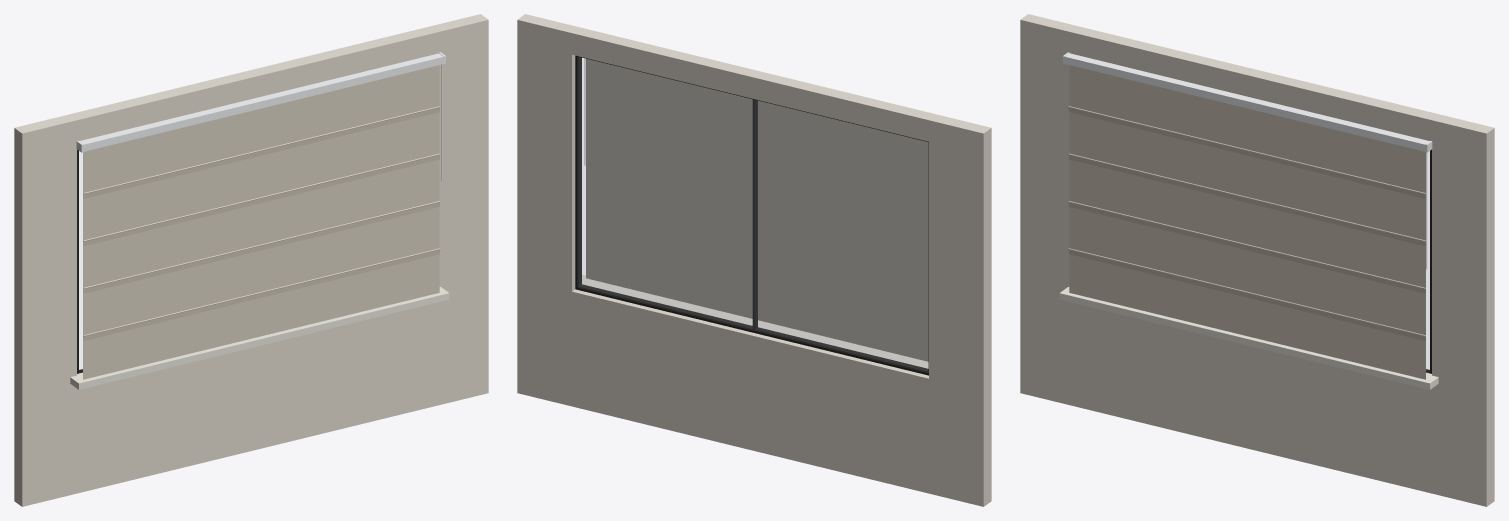
The model's file is curtain-roman.glb.
3 renders of one model, left to right at view 1: azimuth 30°, elevation 25°; view 2: azimuth 150°, elevation 25°; view 3: azimuth 330°, elevation 25°, orthographic.
Parts seen in each view (by area): view 1: RomanLowerWall, RomanFace_2, RomanFace_1, RomanFace_3, RomanLeftEdgeWall, RomanFace_0, RomanHeaderWall, RomanFace_4, RomanRightEdgeWall, RomanHeadrail, WindowSill_Roman, RomanFlap_0 (+9 smaller); view 2: WindowGlass_Roman, RomanLowerWall, RomanFace_3, RomanFace_1, RomanFace_2, RomanFace_4, RomanLeftEdgeWall, RomanHeaderWall, RomanRightEdgeWall, RomanFace_0, CurtainRomanShade, WindowSill_Roman; view 3: RomanLowerWall, RomanFace_2, RomanFace_1, RomanFace_3, RomanRightEdgeWall, RomanFace_0, RomanHeaderWall, RomanFace_4, RomanLeftEdgeWall, RomanHeadrail, WindowSill_Roman, RomanFlap_0 (+9 smaller).
Part boxes in pixels (x1,y1,x2,y2): RomanLowerWall: [14, 278, 488, 506]; RomanFace_2: [83, 159, 439, 287]; RomanFace_1: [83, 112, 439, 240]; RomanFace_3: [83, 207, 439, 335]; RomanLeftEdgeWall: [14, 142, 76, 391]; RomanFace_0: [83, 65, 439, 192]; RomanHeaderWall: [14, 14, 488, 154]; RomanFace_4: [83, 254, 439, 379]; RomanRightEdgeWall: [439, 41, 488, 288]; RomanHeadrail: [79, 53, 443, 151]; WindowSill_Roman: [70, 287, 449, 389]; RomanFlap_0: [83, 107, 440, 198]; WindowGlass_Roman: [578, 57, 927, 372]; RomanLowerWall: [517, 278, 991, 506]; RomanFace_3: [586, 187, 928, 317]; RomanFace_1: [586, 92, 928, 222]; RomanFace_2: [586, 139, 928, 270]; RomanFace_4: [586, 234, 928, 361]; RomanLeftEdgeWall: [929, 142, 991, 391]; RomanHeaderWall: [517, 14, 991, 154]; RomanRightEdgeWall: [517, 41, 575, 291]; RomanFace_0: [586, 58, 928, 175]; CurtainRomanShade: [575, 55, 928, 375]; WindowSill_Roman: [582, 274, 928, 368]; RomanLowerWall: [1020, 278, 1494, 506]; RomanFace_2: [1069, 159, 1425, 287]; RomanFace_1: [1069, 112, 1425, 240]; RomanFace_3: [1069, 207, 1425, 335]; RomanRightEdgeWall: [1432, 142, 1494, 391]; RomanFace_0: [1069, 65, 1425, 192]; RomanHeaderWall: [1020, 14, 1494, 154]; RomanFace_4: [1069, 254, 1425, 379]; RomanLeftEdgeWall: [1020, 41, 1069, 288]; RomanHeadrail: [1065, 53, 1429, 151]; WindowSill_Roman: [1059, 287, 1438, 389]; RomanFlap_0: [1068, 107, 1425, 198].
Size of the model in its own units: 3.4 by 2.6 by 0.21.
